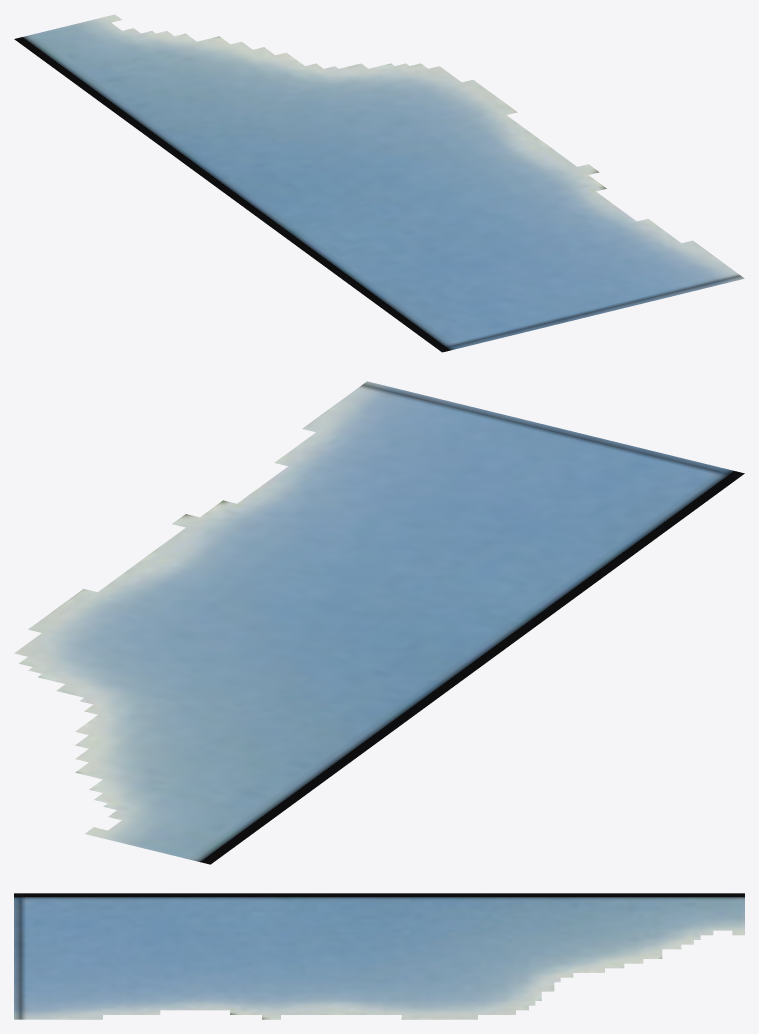
Rendered from west-argentina-chile-sea.gltf.
The picture shows the model from 3 angles, top to bottom: view 1: azimuth 30°, elevation 25°; view 2: azimuth 150°, elevation 25°; view 3: azimuth 270°, elevation 25°; orthographic projection. The views are drawn at different scales.
Parts seen in each view (by area): view 1: Plane; view 2: Plane; view 3: Plane.
Boxes of the visible parts, x1=… form: Plane: x1=14, y1=14, x2=744, y2=352; Plane: x1=14, y1=381, x2=744, y2=864; Plane: x1=14, y1=893, x2=744, y2=1019.
Bounding box in the file's own units: 0.2666 × 0 × 0.6531.
1 material, 1 textured.
